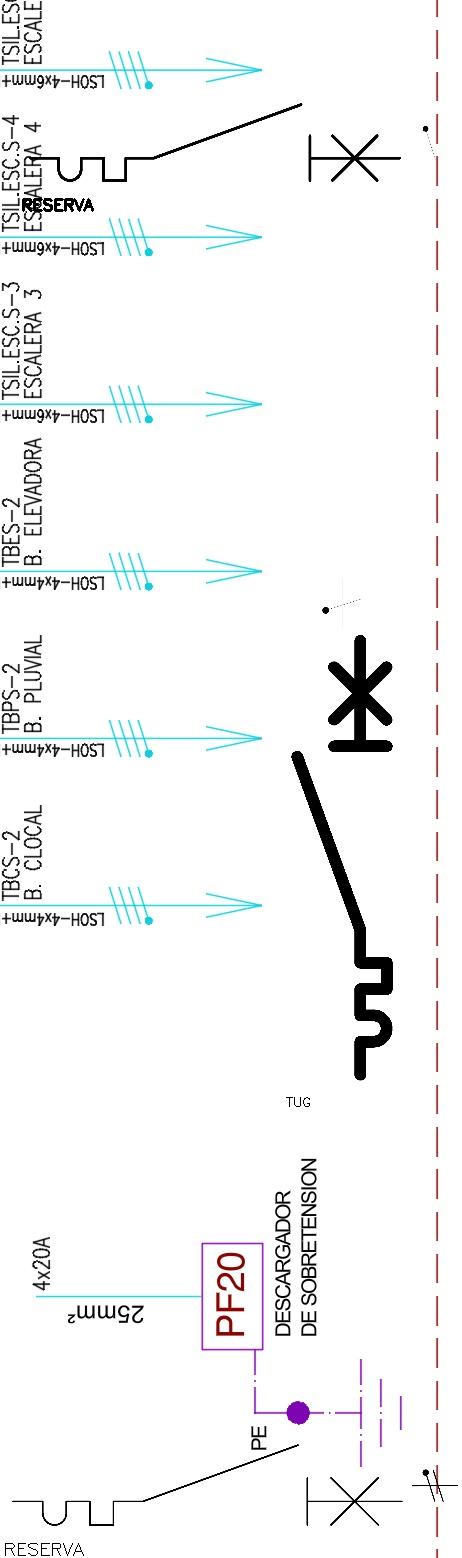interruptor_termomagnetico: (286, 629, 398, 1086), (3, 1435, 411, 1535), (21, 95, 409, 190)
